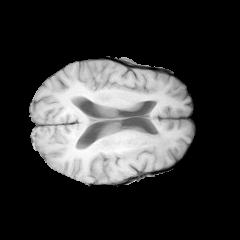glioma: (88, 128, 171, 164)
